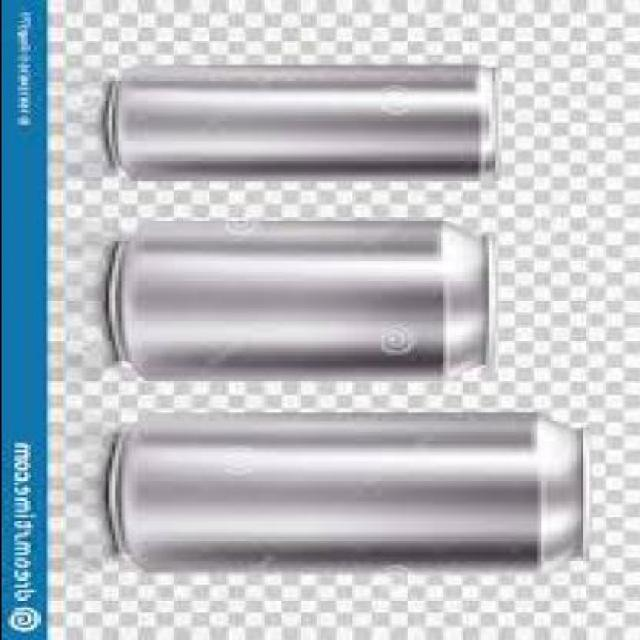metal: (111, 416, 591, 578), (108, 223, 498, 380), (108, 68, 498, 183)
